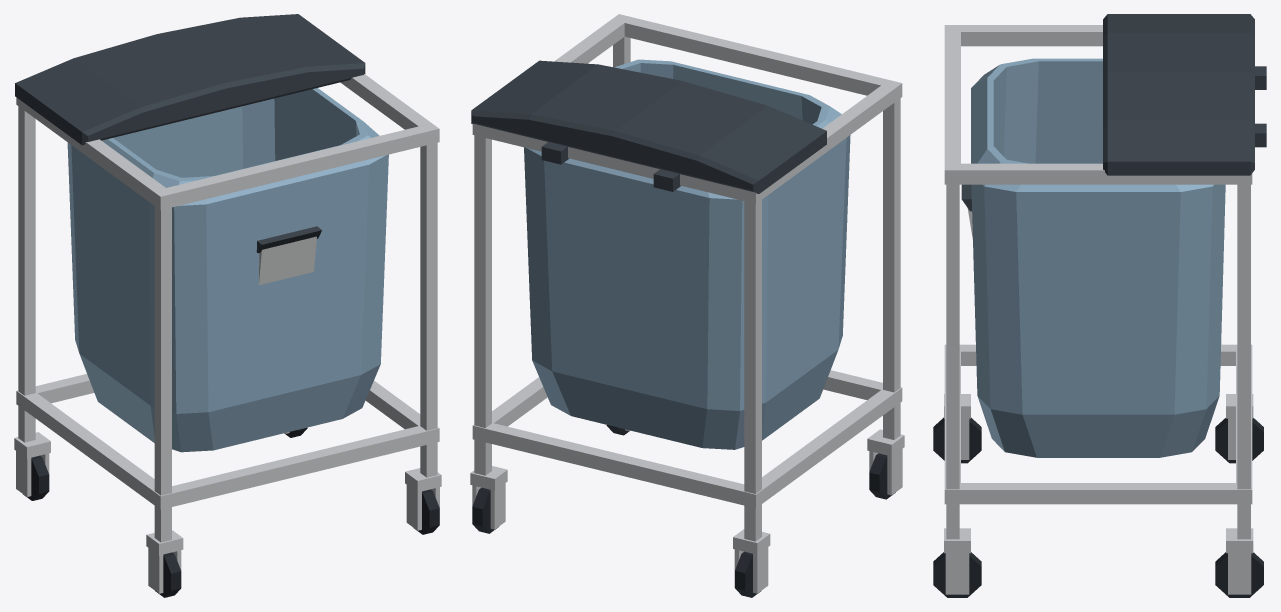
The model's file is linen-trolley-08a3f6.glb.
The picture shows the model from 3 angles, left to right: view 1: azimuth 30°, elevation 25°; view 2: azimuth 150°, elevation 25°; view 3: azimuth 270°, elevation 25°; orthographic projection. The views are drawn at different scales.
Visible parts, largest first — view 1: trolley, lid, castor-fr, castor-br, castor-fl; view 2: trolley, lid, castor-fr, castor-bl, castor-br; view 3: trolley, lid, castor-fl, castor-bl, castor-fr, castor-br.
Boxes of the visible parts, x1,y1,x2,y2 form: trolley: (14, 74, 441, 593); lid: (15, 14, 365, 145); castor-fr: (155, 552, 181, 597); castor-br: (23, 455, 49, 500); castor-fl: (414, 489, 439, 534); trolley: (470, 14, 904, 593); lid: (471, 60, 826, 193); castor-fr: (869, 453, 895, 499); castor-bl: (472, 487, 498, 533); castor-br: (735, 551, 760, 597); trolley: (944, 25, 1266, 594); lid: (1103, 14, 1254, 175); castor-fl: (933, 552, 981, 597); castor-bl: (1215, 552, 1263, 597); castor-fr: (933, 417, 981, 463); castor-br: (1215, 418, 1263, 463).
Bounding box in the file's own units: 0.772 × 1.11 × 0.7376.
